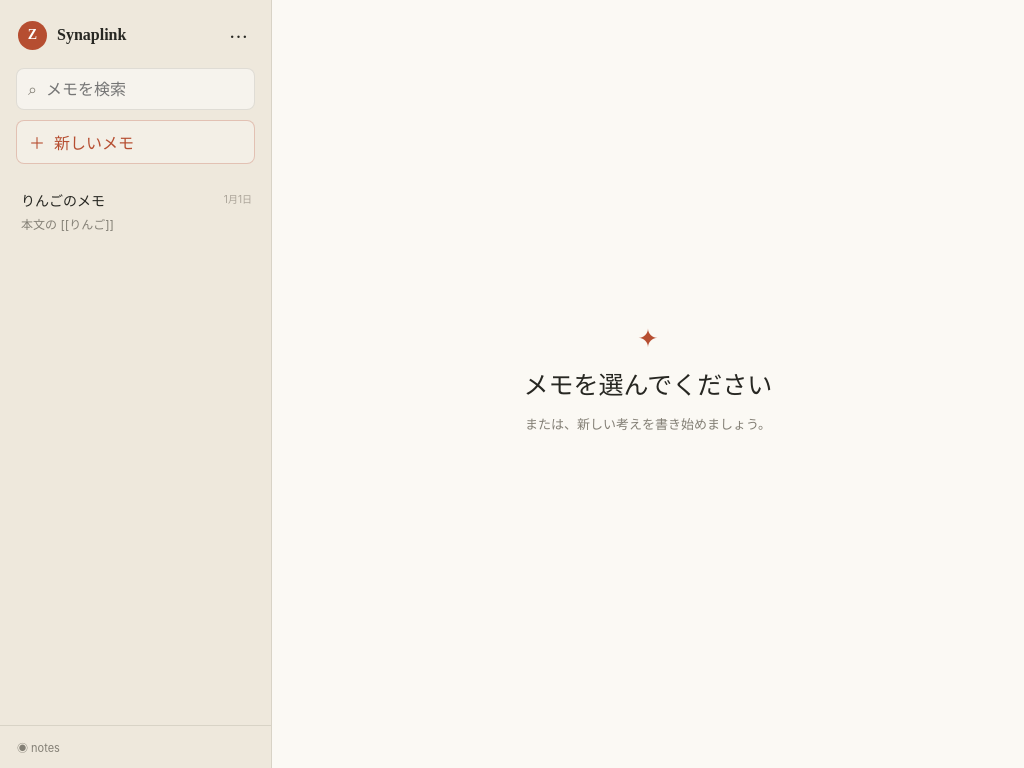
Scenario: App › 通常メモを700ms後に保存する
This screenshot has width=1024, height=768.
Click the button "りんごのメモ": (136, 211) [9, 176, 262, 246]
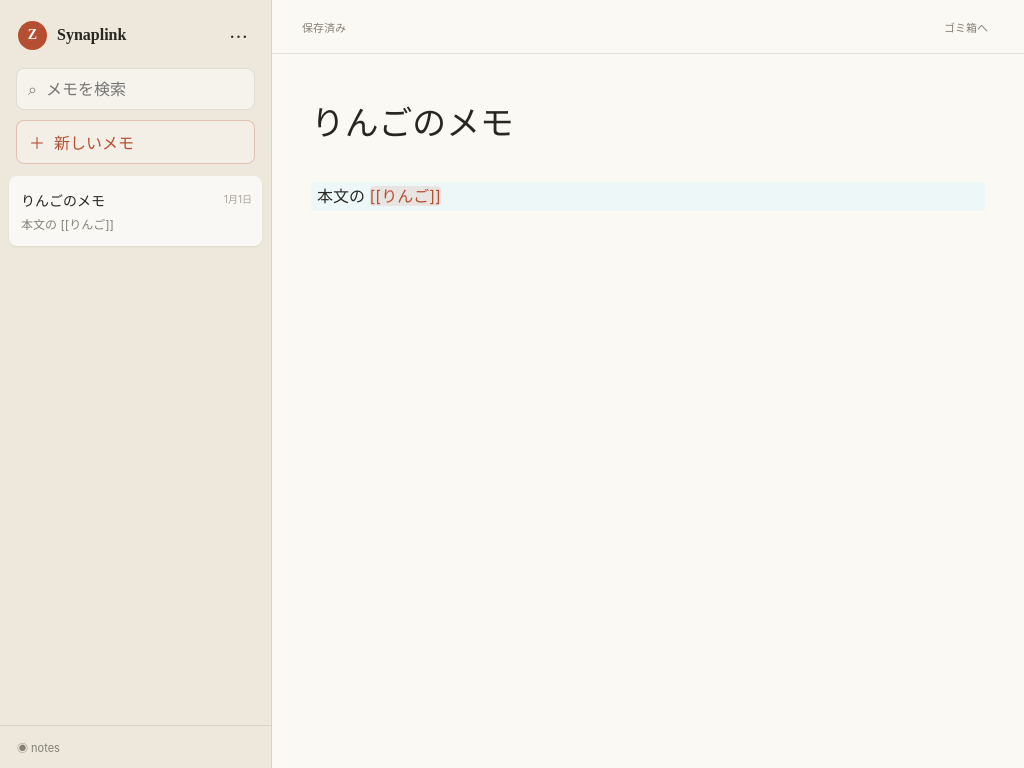
Expected: the field named "タイトル" is shown, [307, 102, 989, 162]
